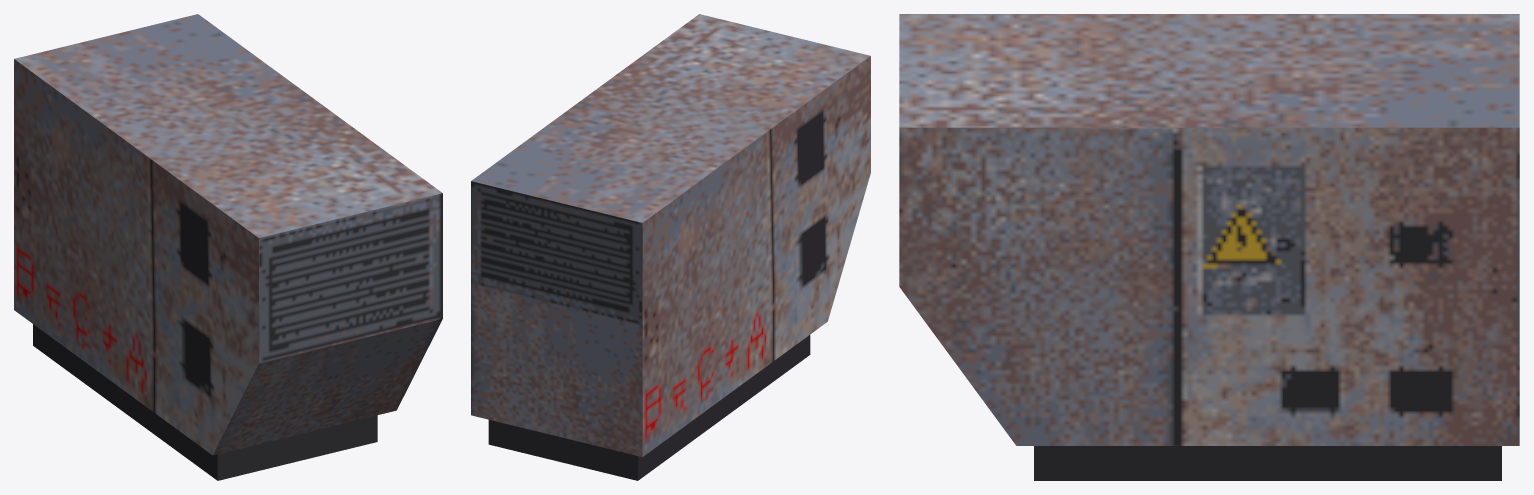
The model's file is Generator.fbx.
3 views of the same model, side by side, from view 1: azimuth 30°, elevation 25°; view 2: azimuth 150°, elevation 25°; view 3: azimuth 270°, elevation 25° (orthographic). The views are drawn at different scales.
Parts seen in each view (by area): view 1: Generator; view 2: Generator; view 3: Generator.
Part boxes in pixels (bbox=[...]): Generator: bbox=[14, 14, 442, 480]; Generator: bbox=[471, 14, 870, 480]; Generator: bbox=[899, 14, 1519, 480].
Size of the model in its own units: 1.13 by 1.67 by 2.61.
